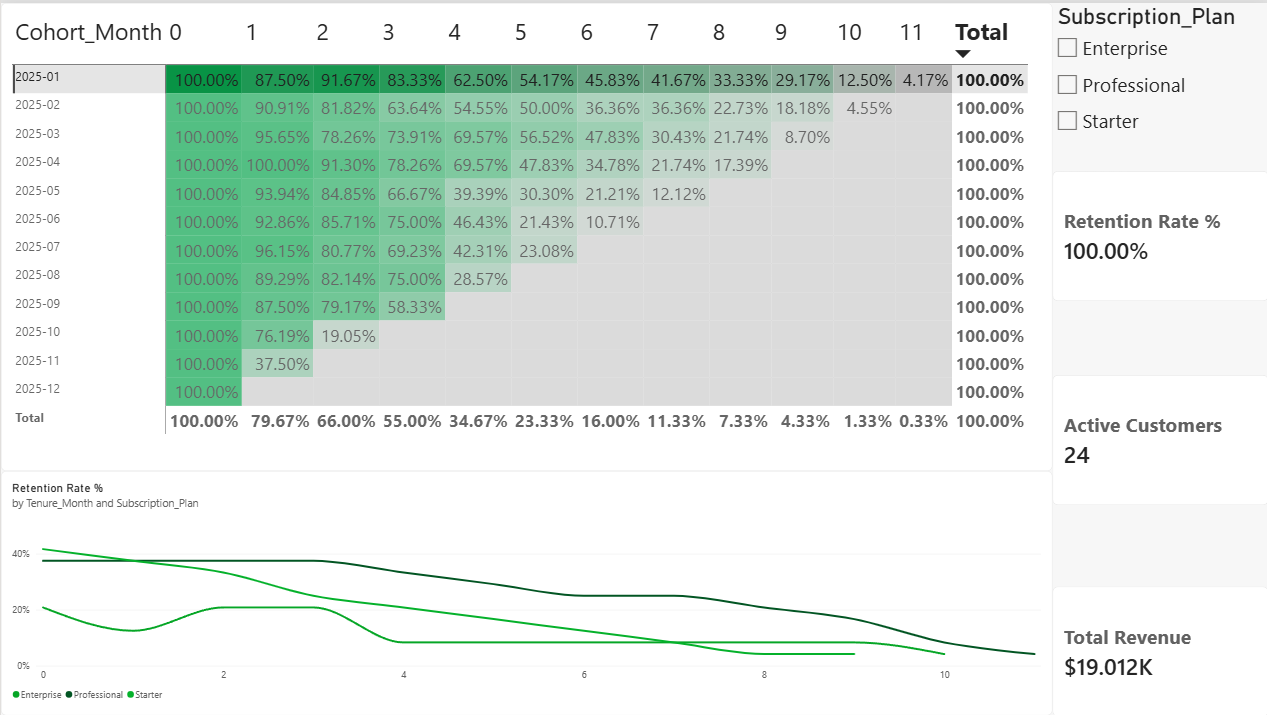

What the dashboard file says about the page in this screenshot:
{"tool":"powerbi","page":{"name":"Page 1","canvas":[1920,1080],"ordinal":0},"visuals":[{"type":"cardVisual","fields":{"Data":["_Measures.Active Customers"]},"box":[1592.2,563.3,327.1,197.6],"z":0},{"type":"cardVisual","fields":{"Data":["_Measures.Total Revenue"]},"box":[1592.2,883.5,327.1,197.6],"z":1000},{"type":"cardVisual","fields":{"Data":["_Measures.Retention Rate %"]},"box":[1592.2,254.4,327.1,197.6],"z":2000},{"type":"slicer","fields":{"Values":["Cleaned_Logs.Subscription_Plan"]},"box":[1592.2,0,327.1,206.7],"z":3000},{"type":"pivotTable","fields":{"Columns":["Cleaned_Logs.Tenure_Month"],"Values":["_Measures.Retention Rate %"],"Rows":["Cleaned_Logs.Cohort_Month"]},"box":[0,0,1592.2,708.6],"z":4000},{"type":"lineChart","fields":{"Category":["Cleaned_Logs.Tenure_Month"],"Y":["_Measures.Retention Rate %"],"Series":["Cleaned_Logs.Subscription_Plan"]},"box":[0,708.6,1592.2,370.2],"z":5000}]}

Visuals, with their boxes in screenshot pixels (x1, y1, x2, y2), scaled from the page's 1920x1080 canvas onto the 1267x715 screenshot:
cardVisual - _Measures.Active Customers: (x1=1051, y1=373, x2=1266, y2=504)
cardVisual - _Measures.Total Revenue: (x1=1051, y1=585, x2=1266, y2=714)
cardVisual - _Measures.Retention Rate %: (x1=1051, y1=168, x2=1266, y2=299)
slicer - Cleaned_Logs.Subscription_Plan: (x1=1051, y1=0, x2=1266, y2=137)
pivotTable - Cleaned_Logs.Tenure_Month x _Measures.Retention Rate %: (x1=0, y1=0, x2=1051, y2=469)
lineChart - Cleaned_Logs.Tenure_Month x _Measures.Retention Rate %: (x1=0, y1=469, x2=1051, y2=714)
